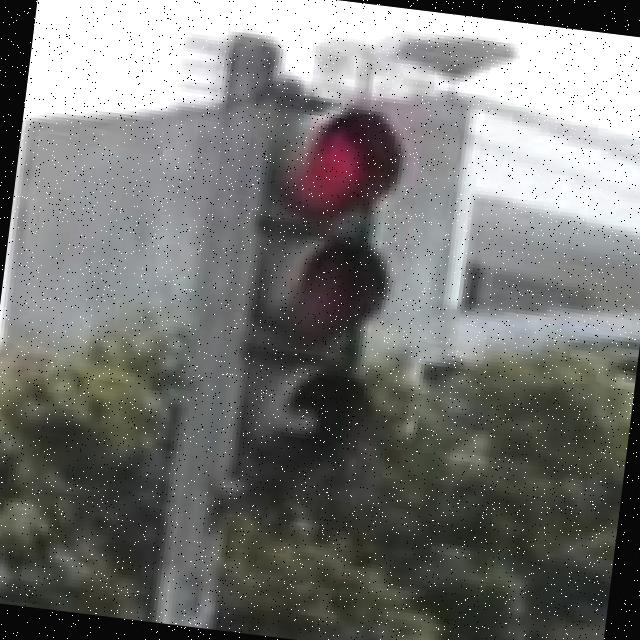Zolte swiatlo: (218, 87, 414, 512)
